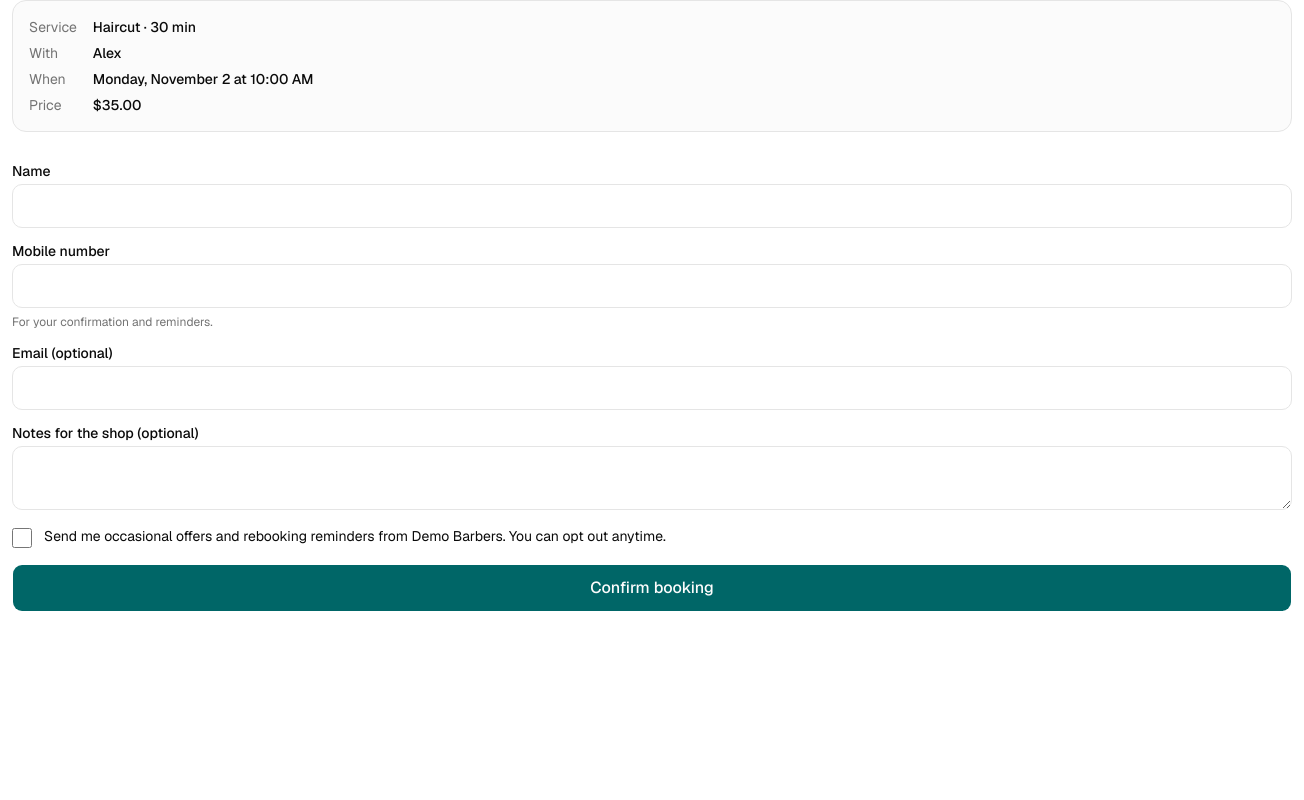
Test: DetailsForm › flags missing fields, focuses the first one and does not submit
The width and height of the screenshot is (1304, 800).
Click the button "Confirm booking".
click(652, 588)  # box [12,564,1292,612]
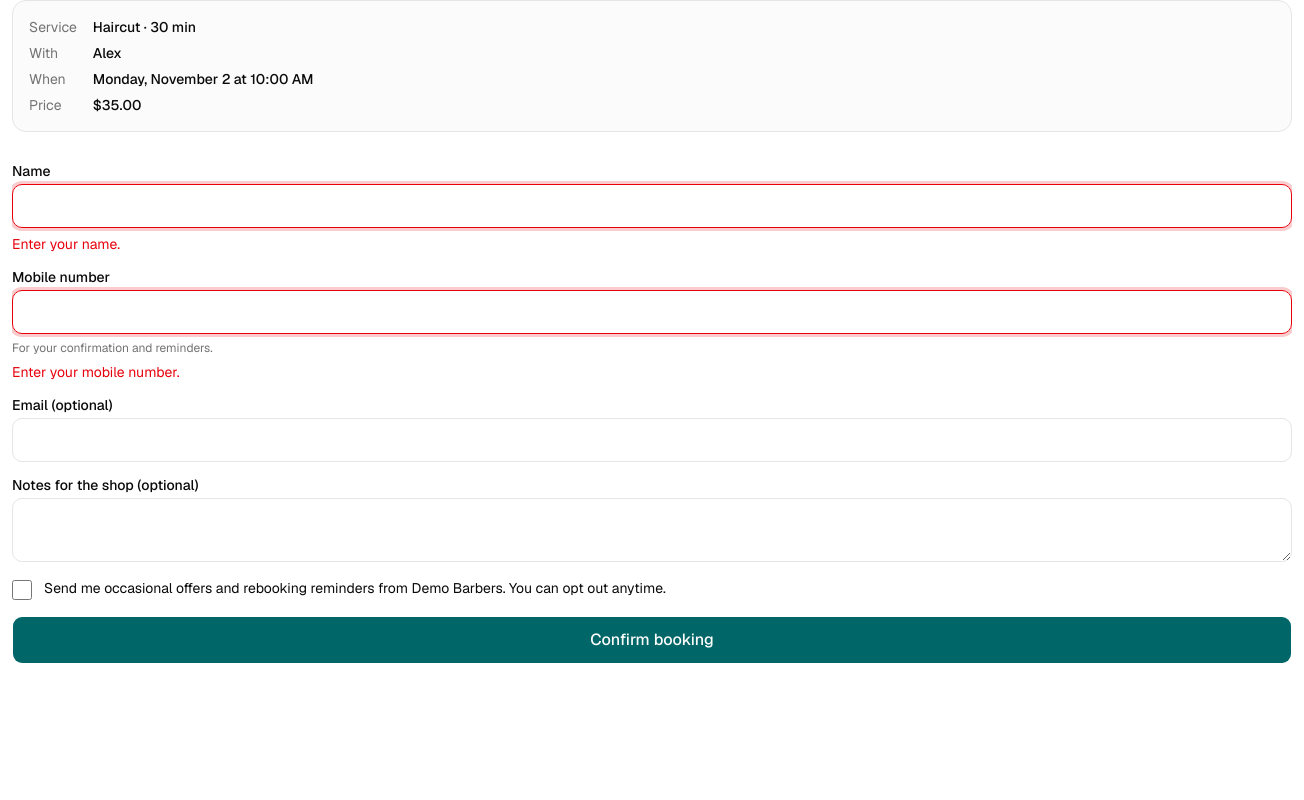
Expected: the text "Enter your name." is shown, [12,235,120,253]
Expected: the text "Enter your mobile number." is shown, [12,363,180,381]
